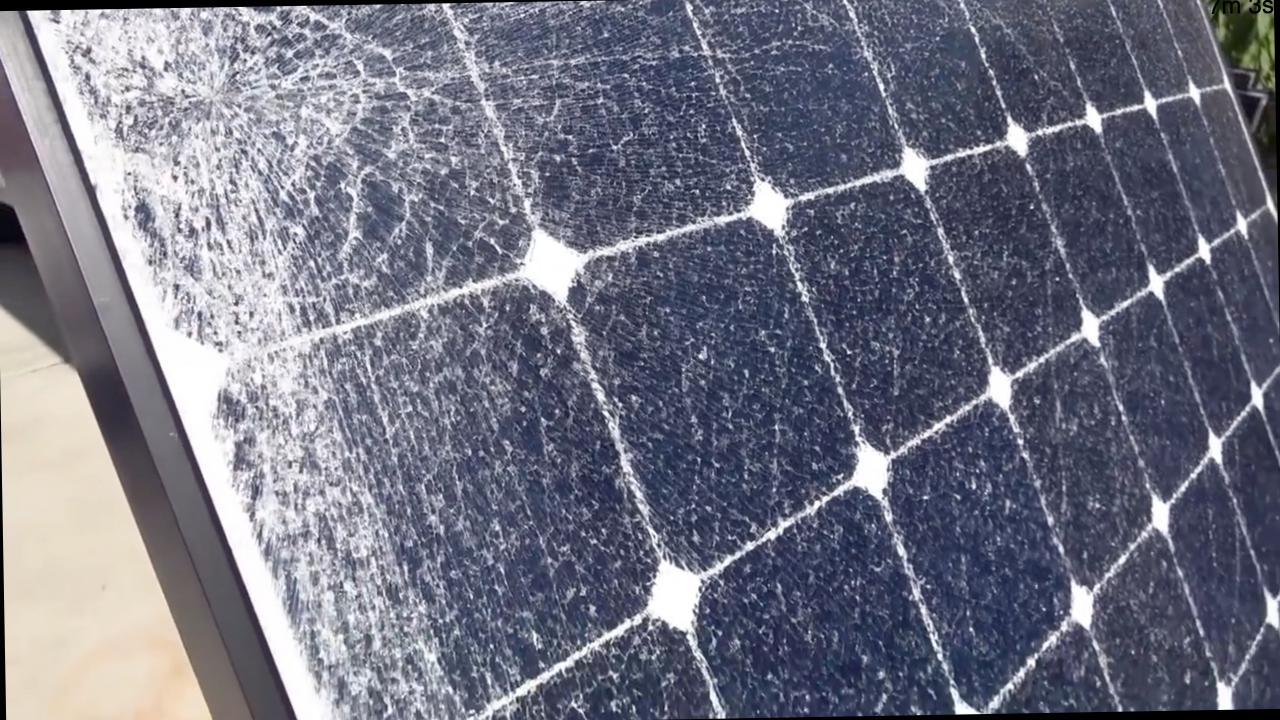Crack: (123, 263, 656, 719), (54, 0, 660, 264), (658, 255, 999, 706), (999, 262, 1268, 696), (667, 0, 983, 254), (987, 0, 1254, 253)
